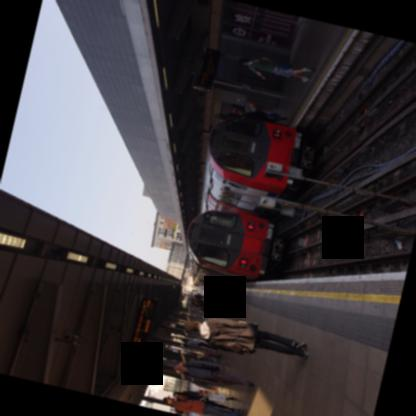handbag: (203, 393, 226, 401), (276, 62, 290, 70), (264, 112, 281, 118), (204, 309, 213, 315)
